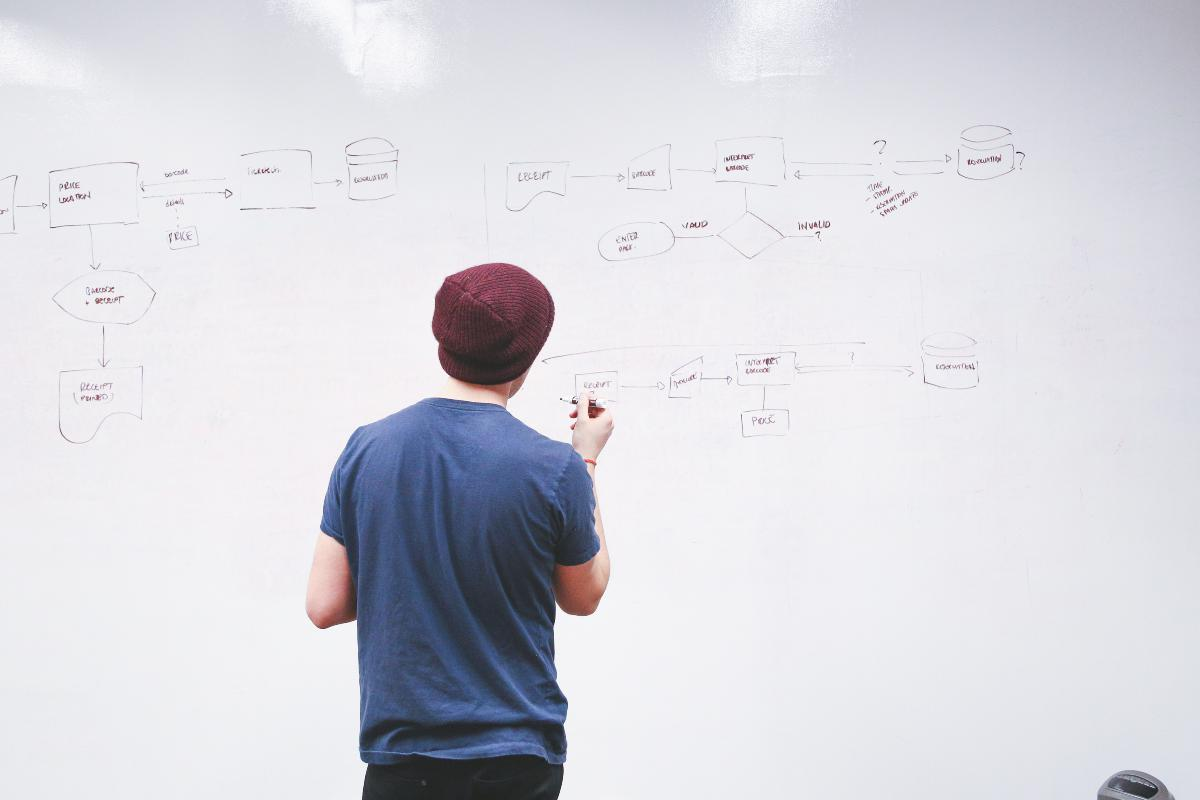Person: (305, 258, 616, 800)
